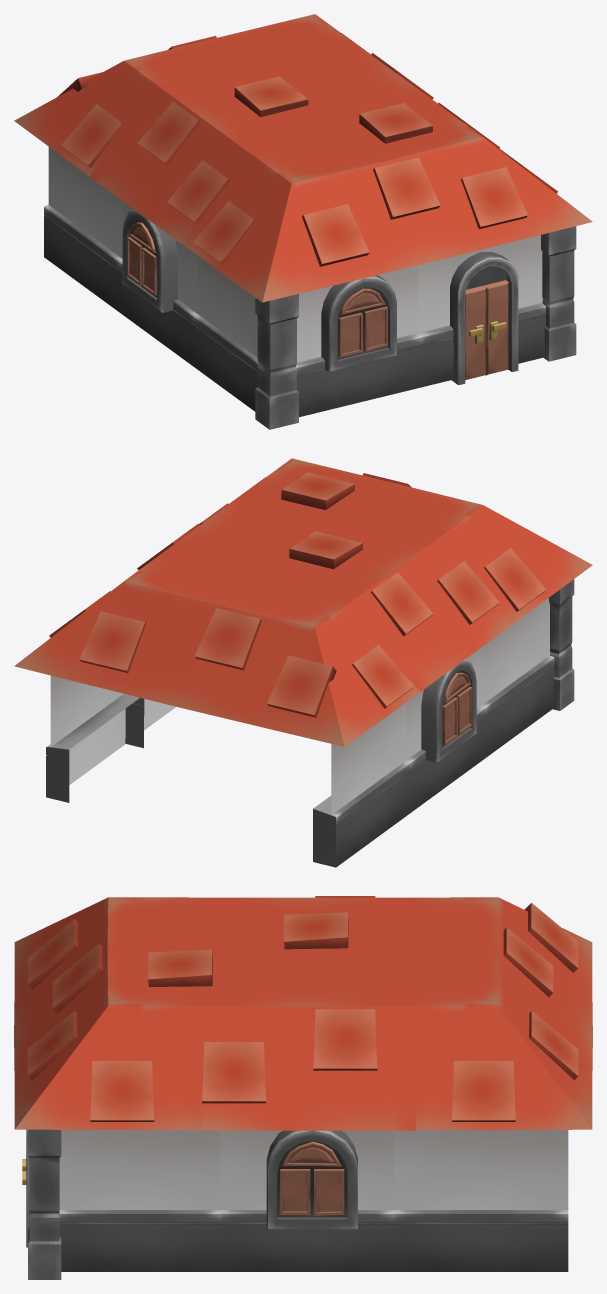
Rendered from Primera_Urban_House09.fbx.
3 views of the same model, one above another, from view 1: azimuth 30°, elevation 25°; view 2: azimuth 150°, elevation 25°; view 3: azimuth 270°, elevation 25° (orthographic). The views are drawn at different scales.
Visible parts, largest first — view 1: Primera_Urban_House09; view 2: Primera_Urban_House09; view 3: Primera_Urban_House09.
Boxes of the visible parts, box(x1,y1,x2,y2) form: Primera_Urban_House09: box(14, 14, 592, 429); Primera_Urban_House09: box(14, 458, 592, 867); Primera_Urban_House09: box(14, 896, 592, 1279).
Bounding box in the file's own units: 1602 × 1005 × 2086.
Materials: 3 (3 with a texture image).
